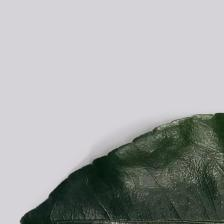healthy: (6, 107, 224, 224)
